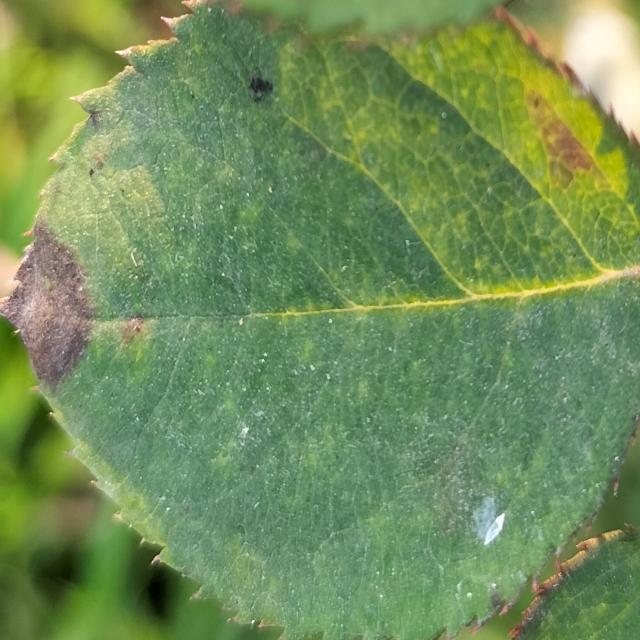Black_spot: (0, 220, 99, 394), (244, 70, 276, 105)
Rose: (0, 1, 639, 639)
